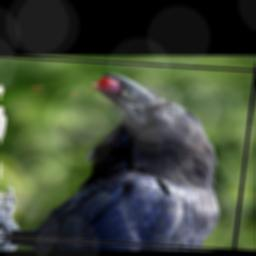Crow: (0, 66, 236, 248)
